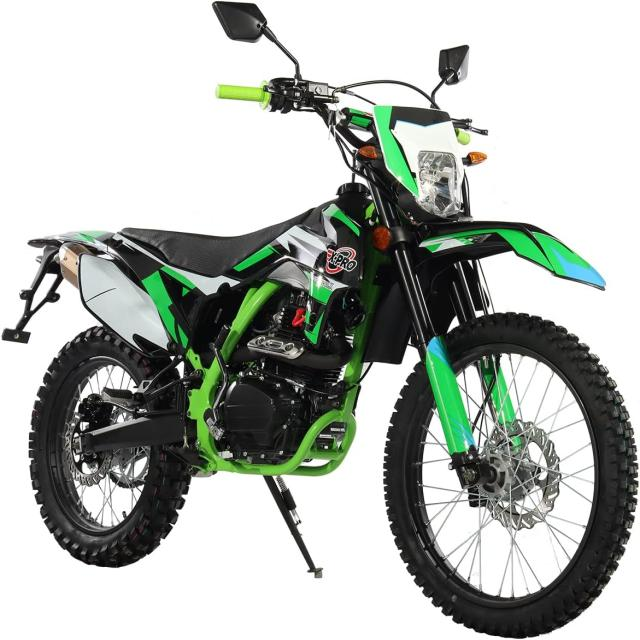Motorcycle: (3, 76, 639, 637)
